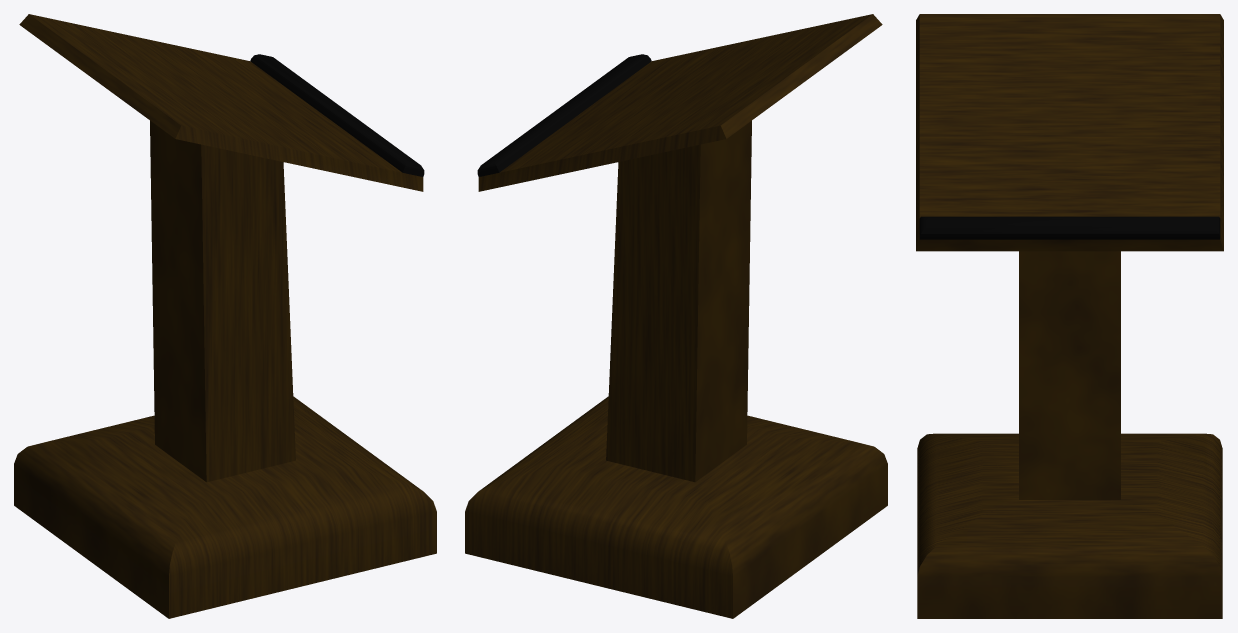
The model's file is church lecturn.fbx.
The picture shows the model from 3 angles, left to right: view 1: azimuth 30°, elevation 25°; view 2: azimuth 150°, elevation 25°; view 3: azimuth 270°, elevation 25°; orthographic projection.
Visible parts, largest first — view 1: lecturn; view 2: lecturn; view 3: lecturn.
Boxes of the visible parts, left/top/right/bottom form: lecturn: left=14, top=14, right=436, bottom=618; lecturn: left=465, top=14, right=887, bottom=618; lecturn: left=916, top=14, right=1223, bottom=618.
Bounding box in the file's own units: 200 × 349 × 202.
